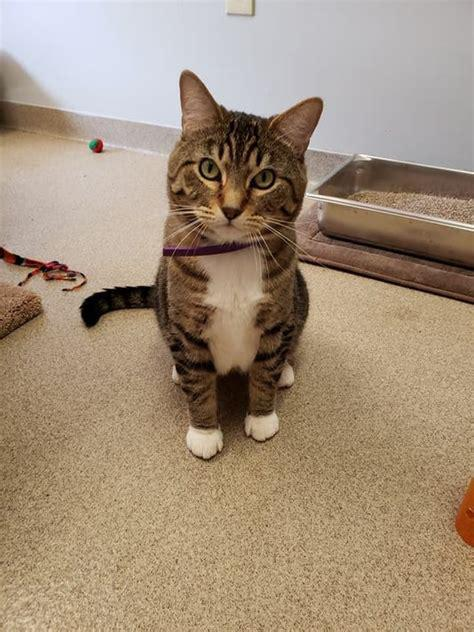cat: (81, 70, 322, 458)
